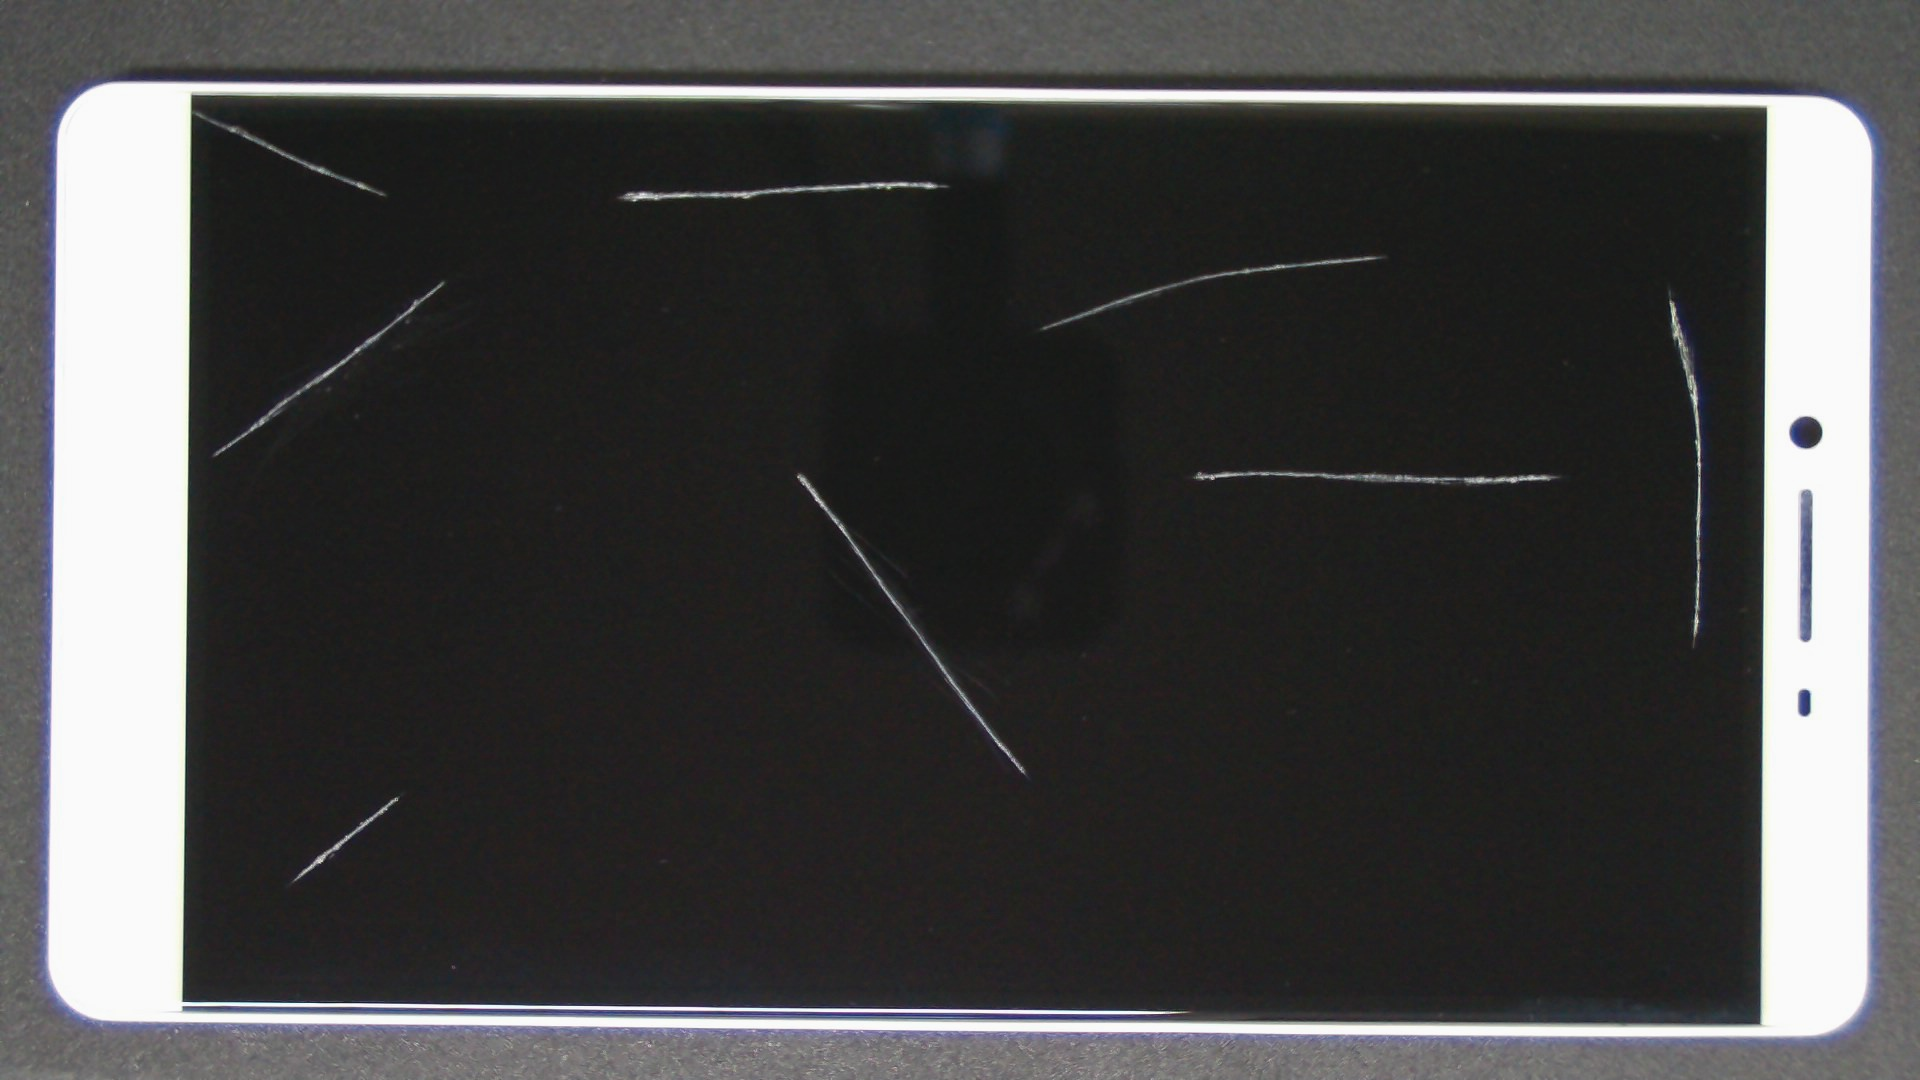oil: (629, 233, 1883, 704), (398, 235, 1196, 707), (836, 144, 1920, 434), (686, 127, 1920, 381), (199, 397, 596, 1080), (465, 90, 1393, 270), (222, 140, 661, 422), (98, 54, 291, 164)
